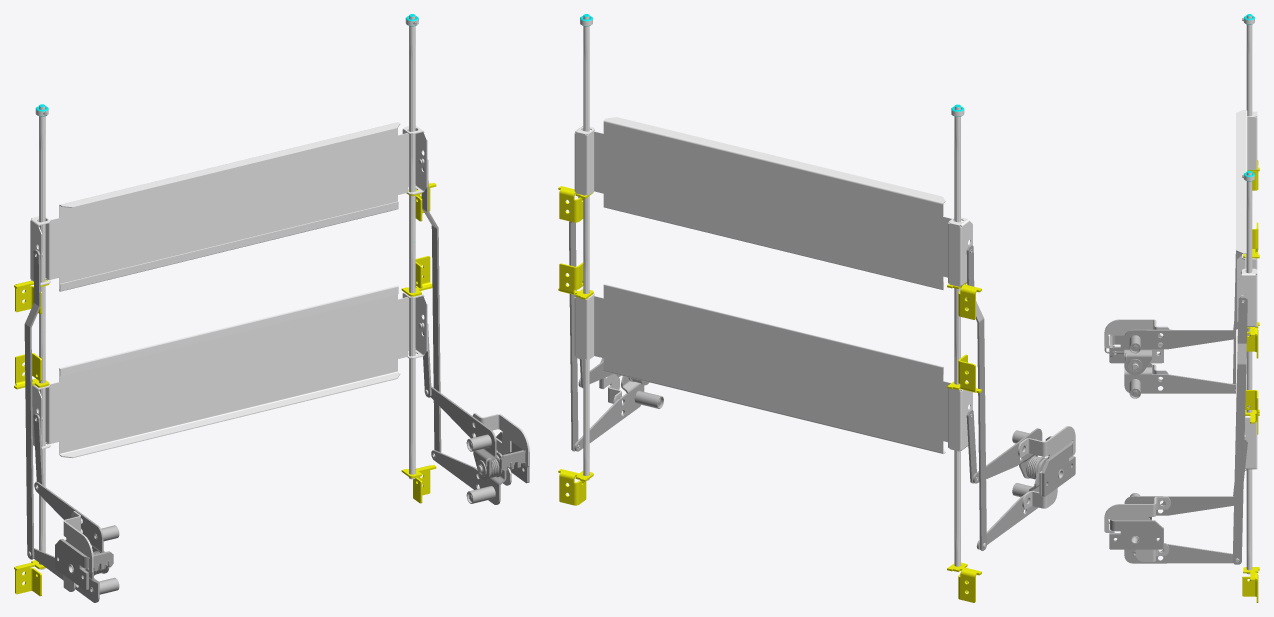
The model's file is 11_shtorochnyy-mekhanizm.glb.
3 views of the same model, side by side, from view 1: azimuth 30°, elevation 25°; view 2: azimuth 150°, elevation 25°; view 3: azimuth 270°, elevation 25° (orthographic). The views are drawn at different scales.
Visible parts, largest first — view 1: 11_shtorochnyy-mekhanizm; view 2: 11_shtorochnyy-mekhanizm; view 3: 11_shtorochnyy-mekhanizm.
Boxes of the visible parts, x1,y1,x2,y2 form: 11_shtorochnyy-mekhanizm: (14,14,529,602); 11_shtorochnyy-mekhanizm: (558,14,1075,602); 11_shtorochnyy-mekhanizm: (1104,14,1259,602).
Size of the model in its own units: 0.782 by 0.8179 by 0.2727.
